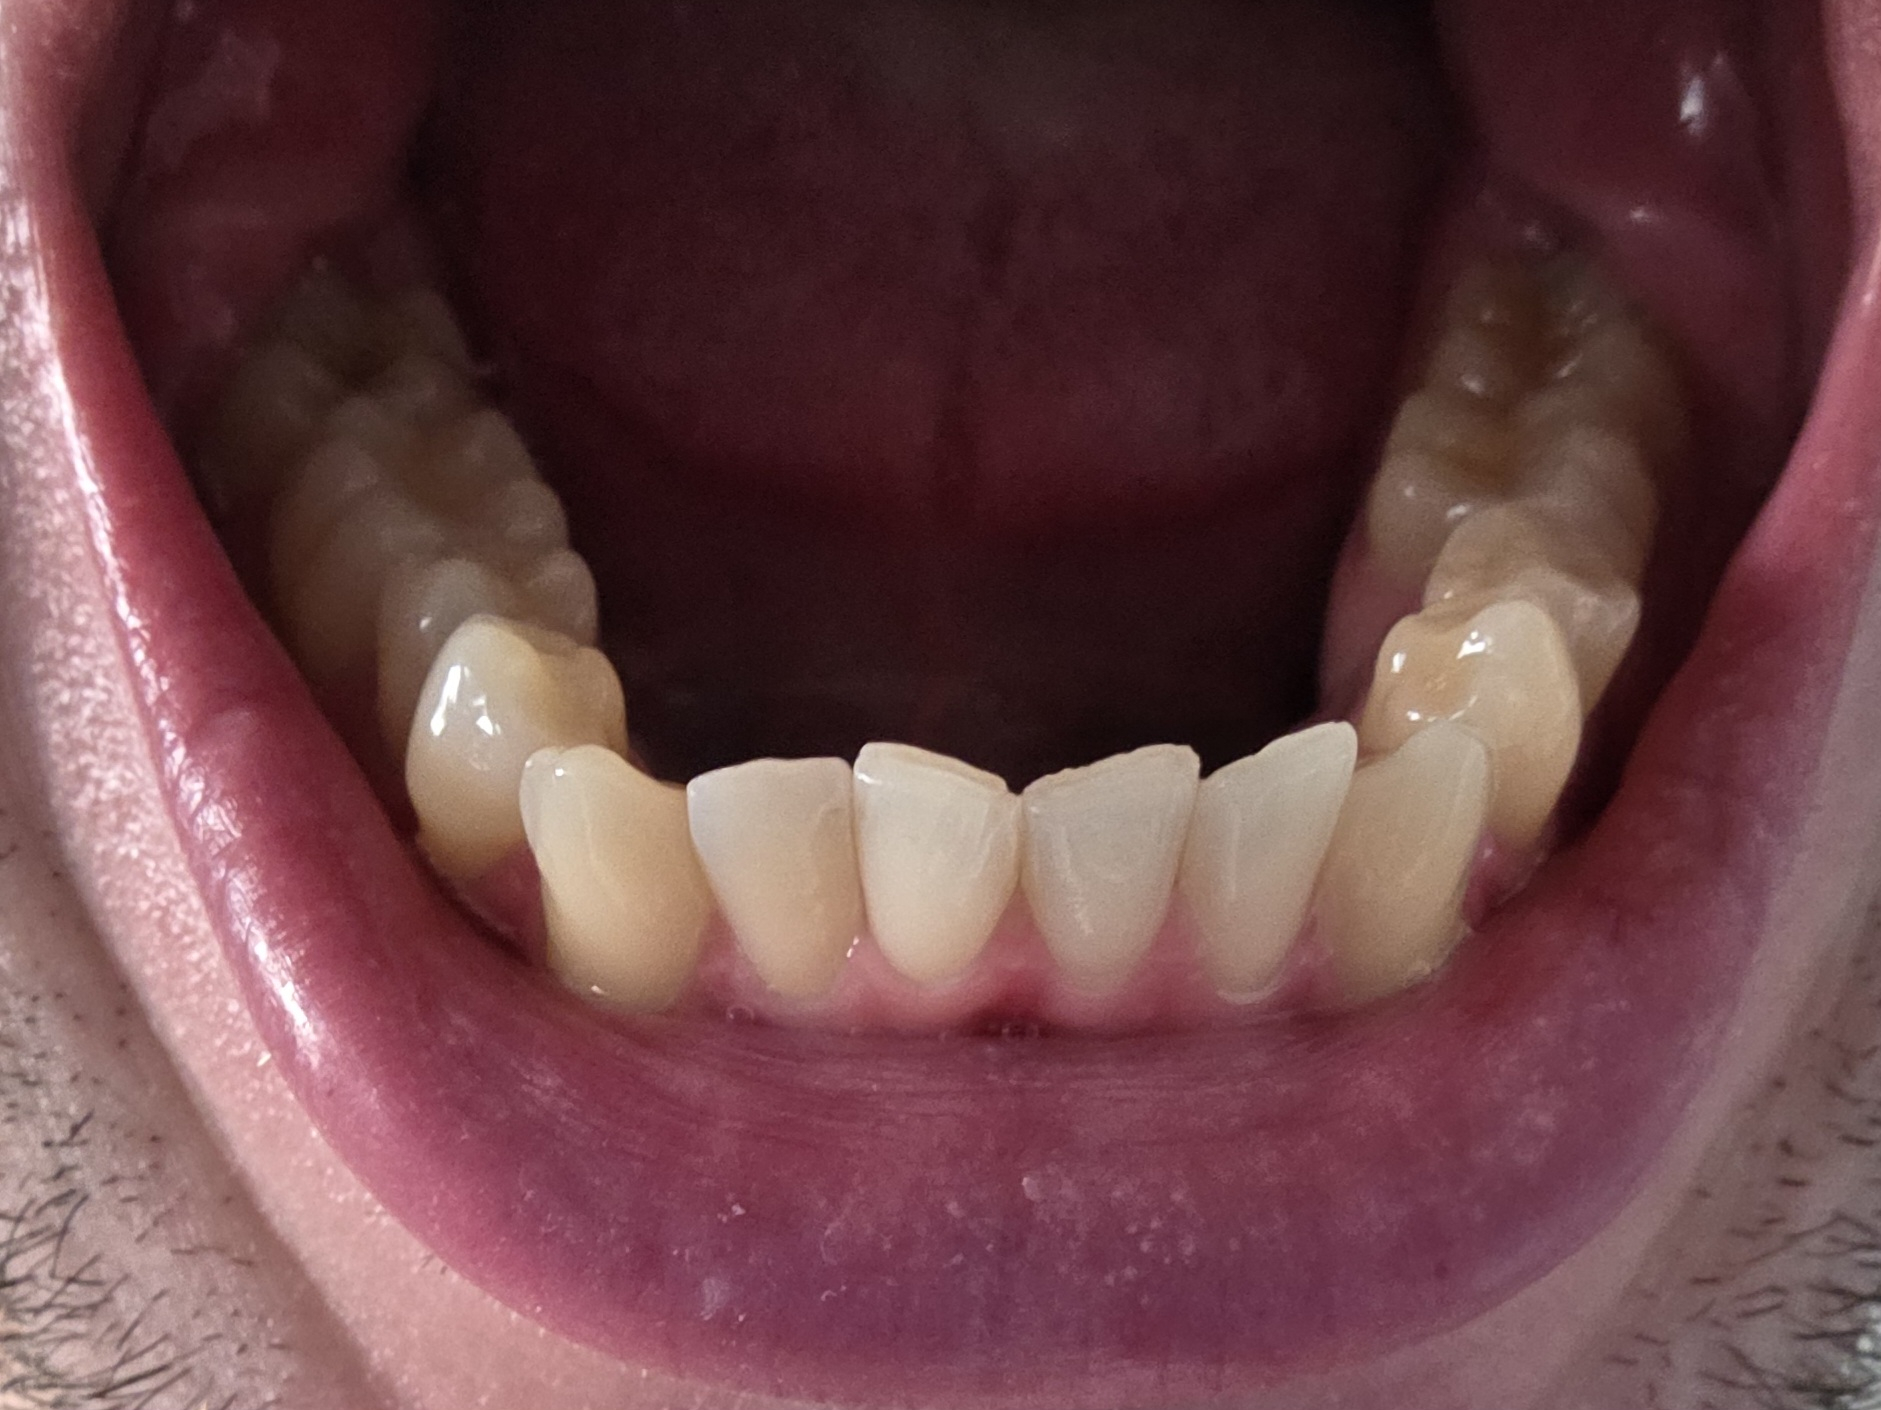teeth: (277, 410, 541, 662), (225, 262, 456, 492), (408, 619, 621, 864), (1373, 394, 1652, 556), (1400, 598, 1575, 846), (367, 539, 583, 733), (1023, 748, 1189, 1000), (691, 756, 852, 1002), (525, 758, 689, 993), (1198, 735, 1352, 985), (1335, 750, 1485, 996), (1445, 500, 1625, 691), (868, 739, 1006, 981)
